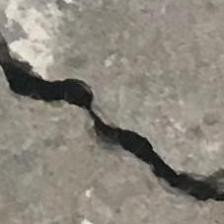Crack: (0, 38, 224, 208)
